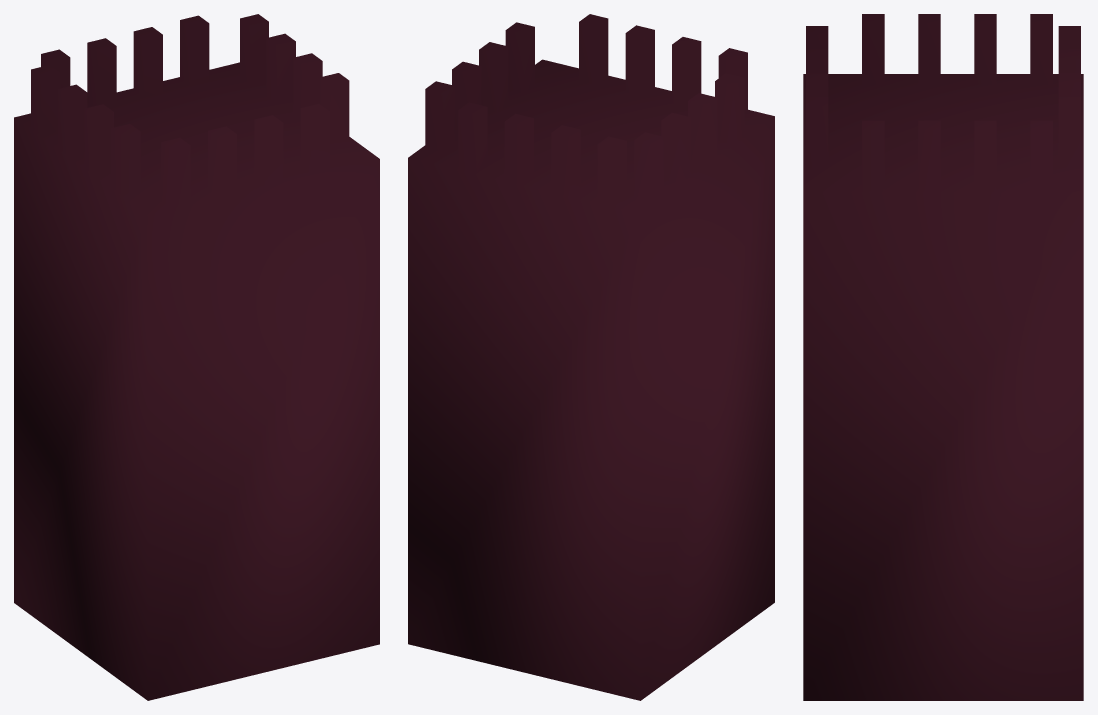
The model's file is demon_gate.obj.
The picture shows the model from 3 angles, left to right: view 1: azimuth 30°, elevation 25°; view 2: azimuth 150°, elevation 25°; view 3: azimuth 270°, elevation 25°; orthographic projection. The views are drawn at different scales.
Parts seen in each view (by area): view 1: building; view 2: building; view 3: building.
Part boxes in pixels (left/top/right/bottom): building: left=14, top=14, right=379, bottom=700; building: left=408, top=14, right=774, bottom=700; building: left=803, top=14, right=1083, bottom=700.
Size of the model in its own units: 2 by 4.48 by 2.
